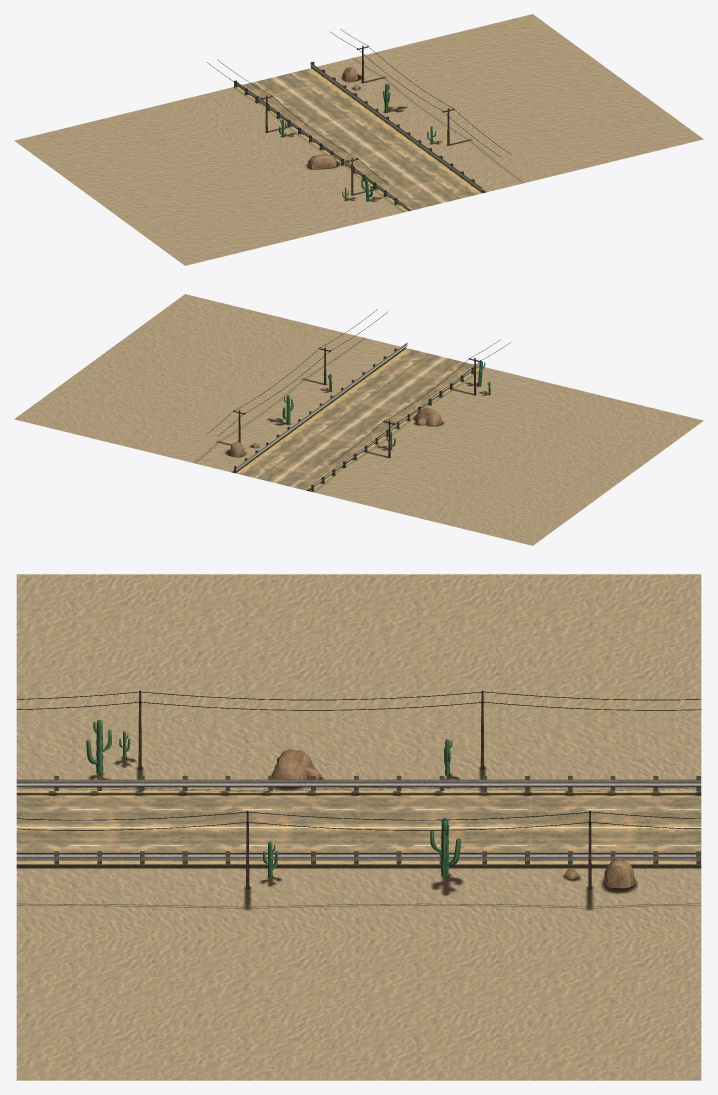
3 renders of one model, top to bottom at view 1: azimuth 30°, elevation 25°; view 2: azimuth 150°, elevation 25°; view 3: azimuth 270°, elevation 25°, orthographic. The views are drawn at different scales.
Visible parts, largest first — view 1: scene2, road009, Box004, rock005, Box003; view 2: scene2, road009, Box004, rock005, Box003; view 3: scene2, road009, Box004, Box003, rock005.
Part boxes in pixels (x1,y1,x2,y2): scene2: (14, 14, 703, 265); road009: (234, 61, 481, 211); Box004: (207, 29, 523, 212); rock005: (307, 67, 359, 169); Box003: (279, 83, 436, 201); scene2: (14, 294, 703, 545); road009: (234, 343, 479, 491); Box004: (194, 309, 510, 492); rock005: (230, 408, 442, 457); Box003: (282, 361, 490, 449); scene2: (16, 574, 701, 1080); road009: (16, 776, 701, 865); Box004: (16, 690, 701, 908); Box003: (86, 720, 461, 877); rock005: (272, 749, 635, 888).
Bounding box in the file's own units: 140 × 10 × 80.
